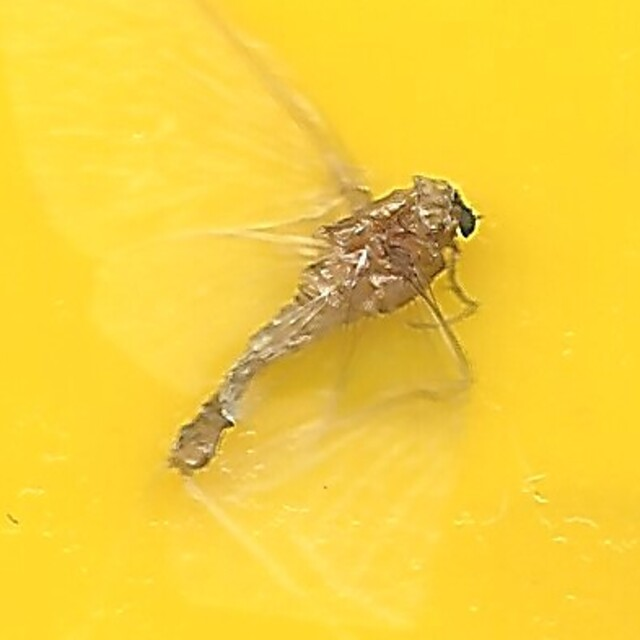Ephemeroptera: (163, 172, 477, 468)
